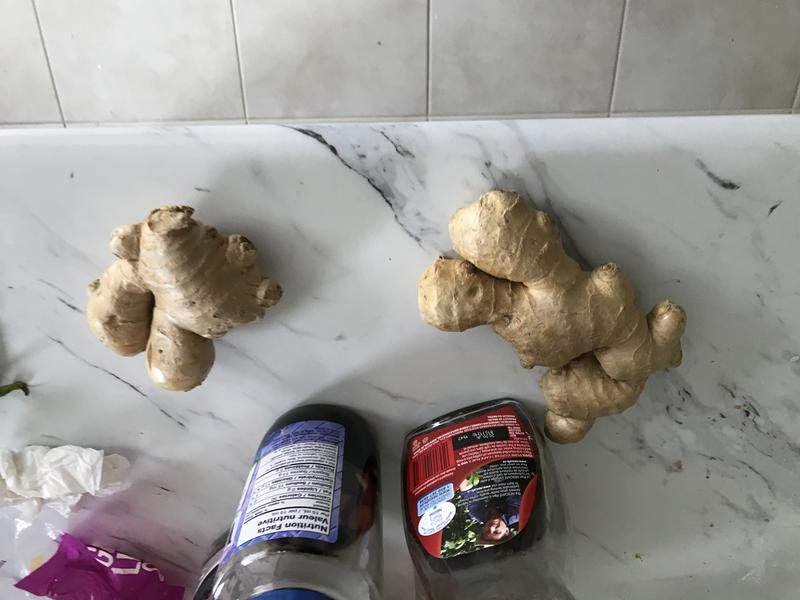ginger: (407, 179, 705, 460), (74, 194, 292, 397)
